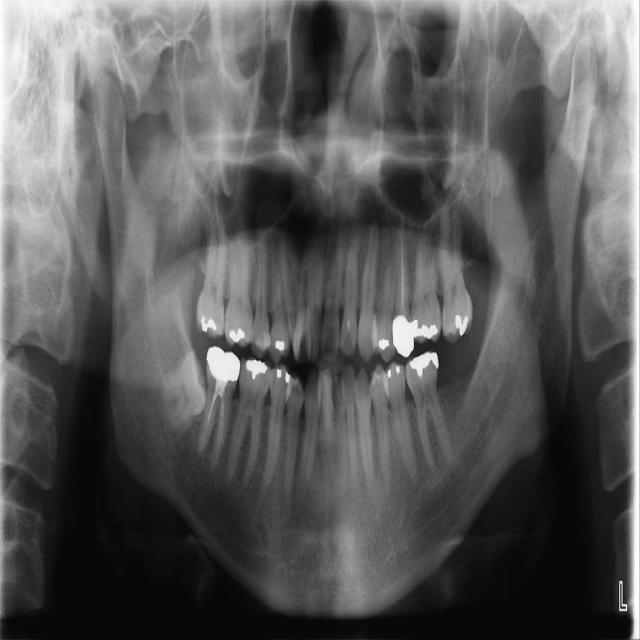Crown: (205, 349, 241, 382), (392, 313, 414, 357)
Filling: (339, 312, 357, 357), (409, 351, 440, 377), (195, 305, 219, 338), (411, 315, 439, 341), (450, 311, 472, 338), (243, 358, 267, 382), (284, 378, 304, 399), (253, 332, 270, 354), (226, 326, 246, 344), (269, 369, 291, 385), (368, 370, 385, 389), (385, 366, 402, 385), (378, 335, 392, 351), (274, 337, 286, 354)
Root Canal Treatment: (400, 230, 409, 319), (208, 398, 216, 430), (219, 403, 223, 453)
impacted tooth: (159, 352, 207, 432)
